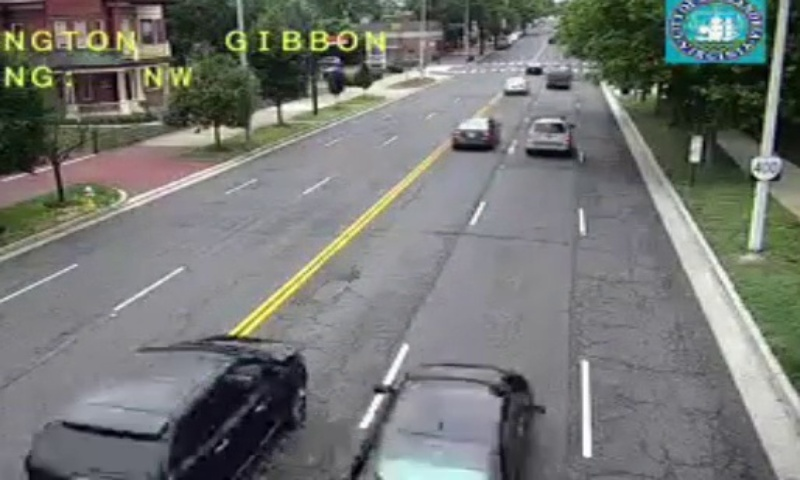car: (26, 336, 306, 480), (347, 364, 532, 480), (524, 117, 571, 152), (451, 117, 498, 149)
